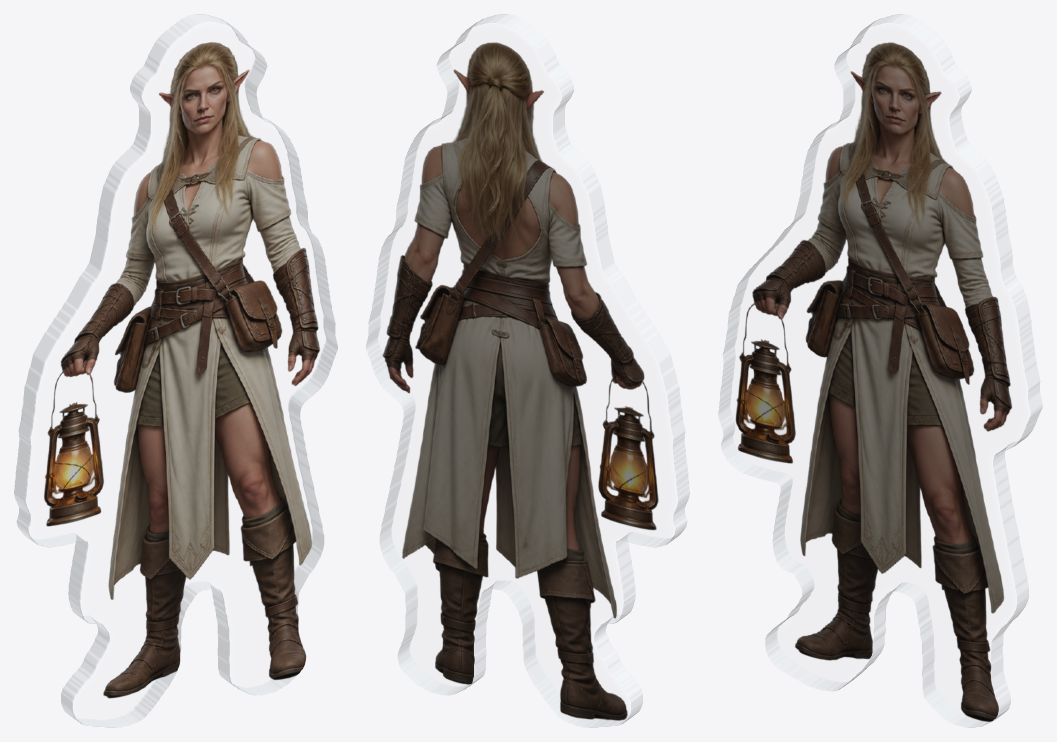
Rendered from maren-lantern.glb.
3 renders of one model, left to right at view 1: azimuth 30°, elevation 25°; view 2: azimuth 150°, elevation 25°; view 3: azimuth 330°, elevation 25°, orthographic.
Visible parts, largest first — view 1: preview_standee; view 2: preview_standee; view 3: preview_standee.
Boxes of the visible parts, x1,y1,x2,y2 form: preview_standee: [14, 14, 337, 727]; preview_standee: [366, 14, 689, 727]; preview_standee: [718, 14, 1042, 727].
Size of the model in its own units: 0.5728 by 1.2 by 0.04.
3 materials, 2 textured.
